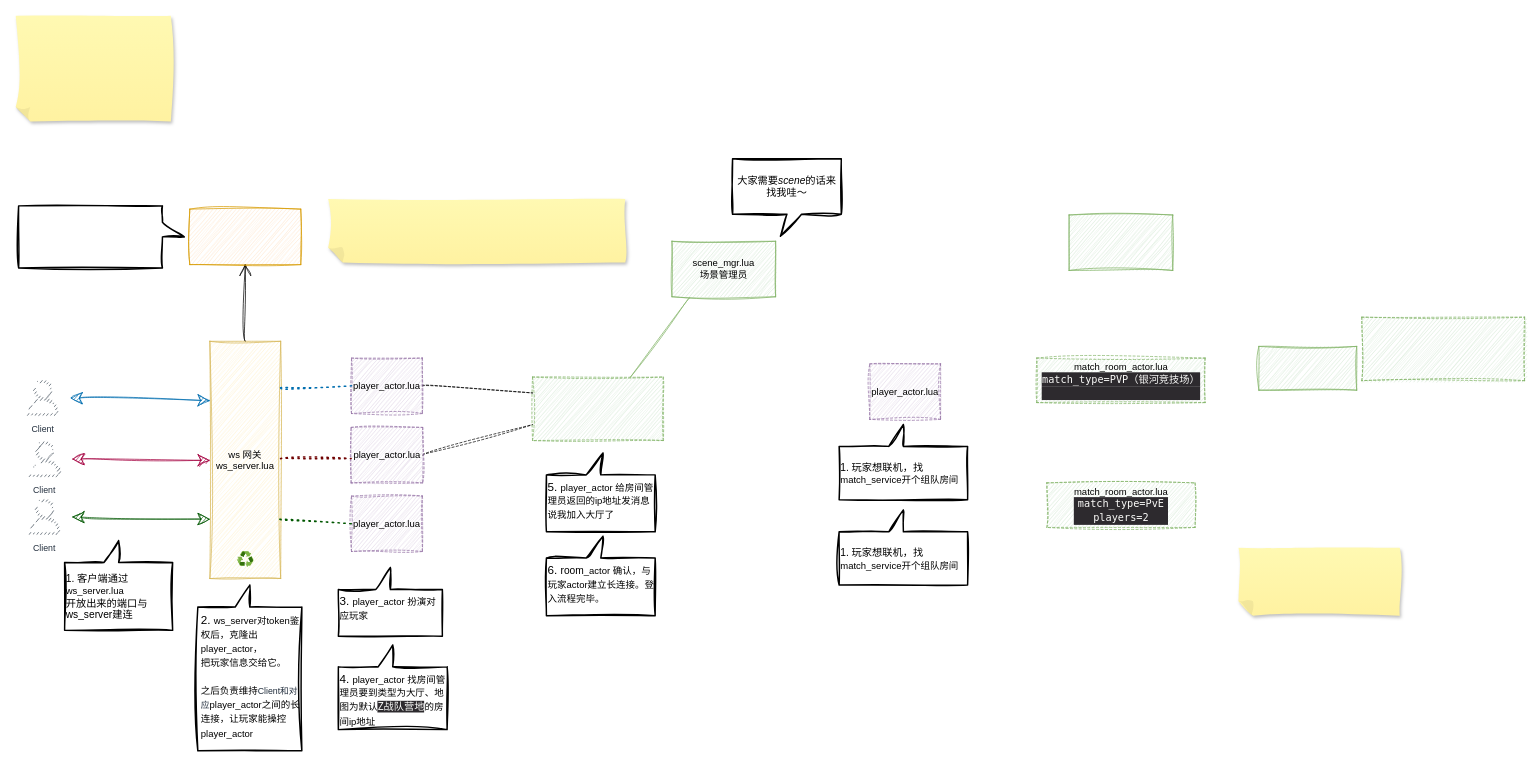
The diagram is 1537 pixels wide and 764 high, and some of its shapes have lost their labels. Here are the shapes that lost their labels. From the top down, the centre of each, then its label:
pixel 93 69: 实线画的方块 代表skynet启动后就存在的服务（角色） 虚线 的是在运行过程中动态创建出来的服务（克隆体），对应lua代码文件名一律以“ _actor”结尾
pixel 101 236: 这个服务负责与 SC-JJXF /mechstorm_usercenter 交流
pixel 245 236: usercenter_service.lua
pixel 477 231: 场景模块的设计来自： https://blog.csdn.net/yangyu20121224/article/details/130199322
pixel 1120 242: match_ service .lua PvP PvE 匹配服务
pixel 1307 368: match_ room .lua
pixel 1443 348: room _actor.lua room_type= PVP room_mapid=1（ Z战队营地）
pixel 597 408: scene _actor.lua type= LOBBY mapid=1（ Z战队营地）
pixel 1319 582: 你的组队房间已被排除出匹配队列
